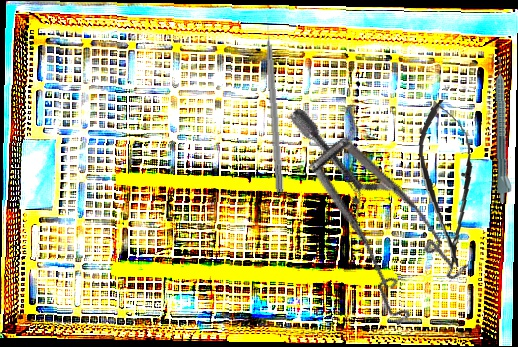Handpiece: (494, 56, 514, 204)
Micro Scissor: (413, 97, 483, 271)
Pusher: (263, 13, 286, 193)
Speculum: (227, 106, 500, 342)
